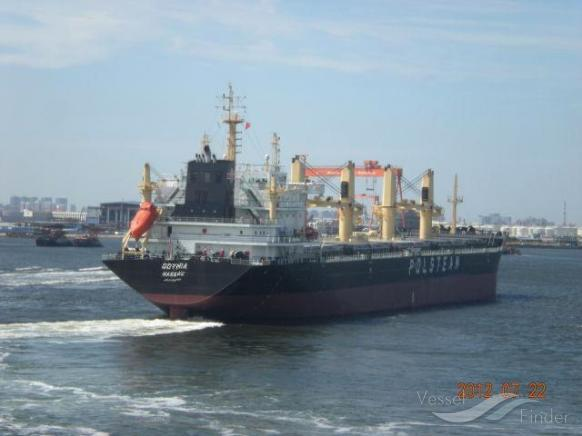OCR: (398, 256, 470, 280), (157, 256, 195, 286)
